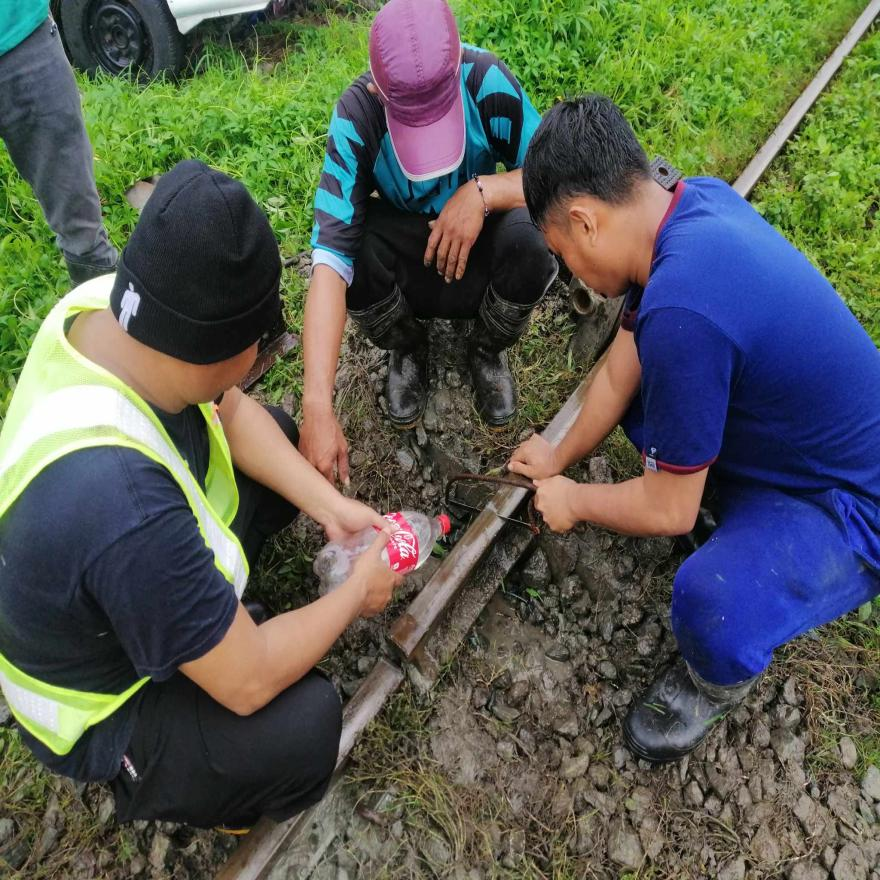railway-gap: (361, 615, 431, 702)
